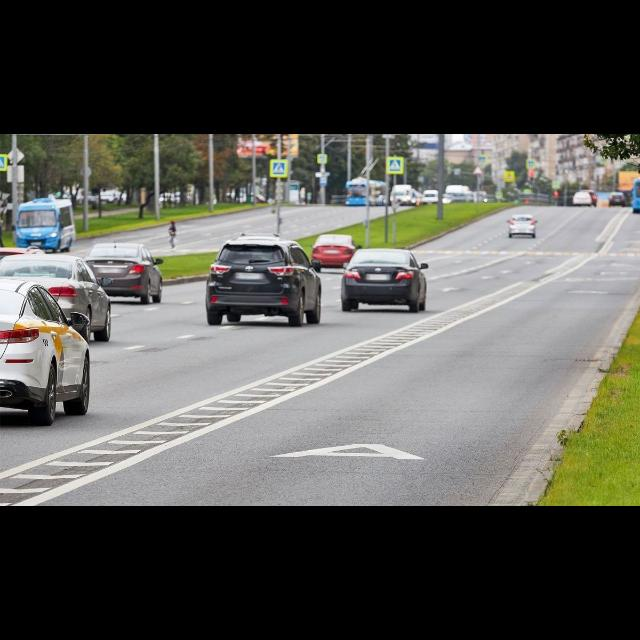road: (0, 209, 639, 506)
